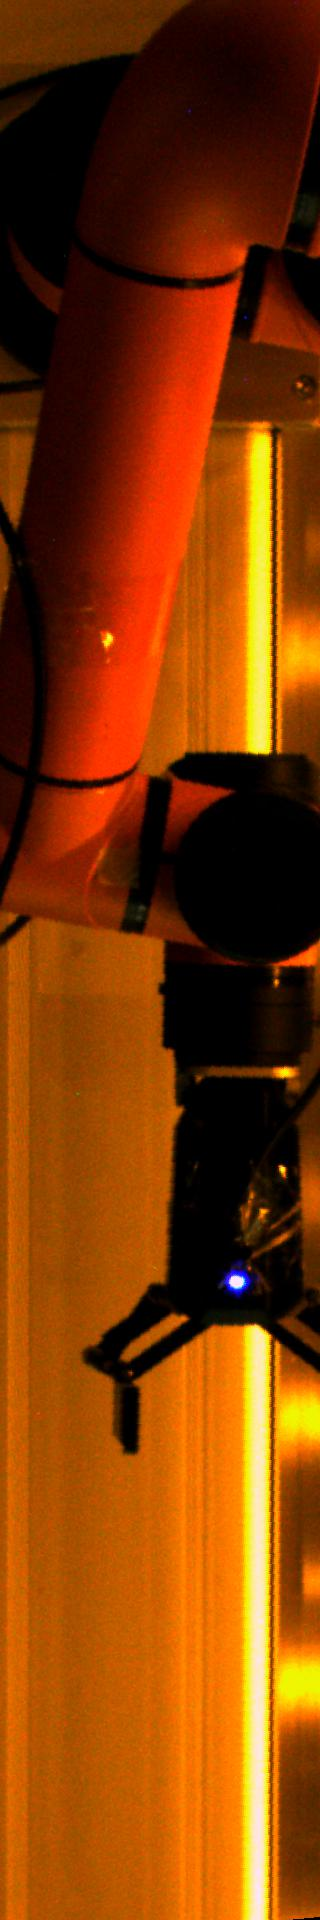keyPoint_1: (222, 1264, 253, 1294)
